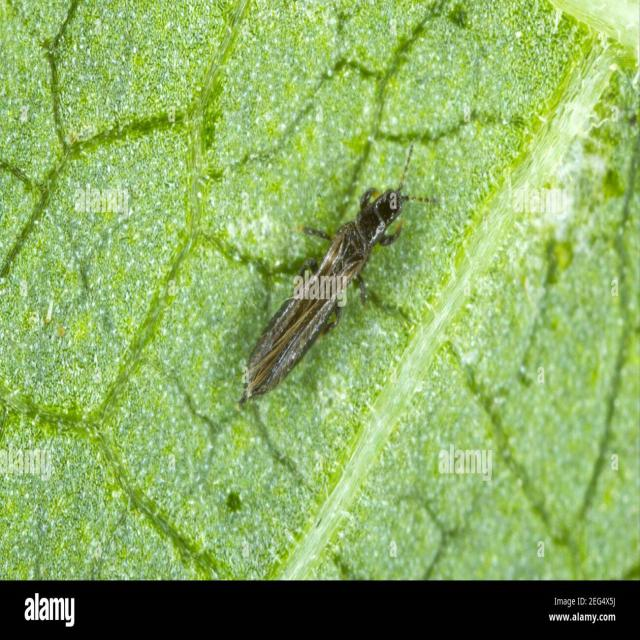Thrip-Adult-: (202, 124, 461, 414)
